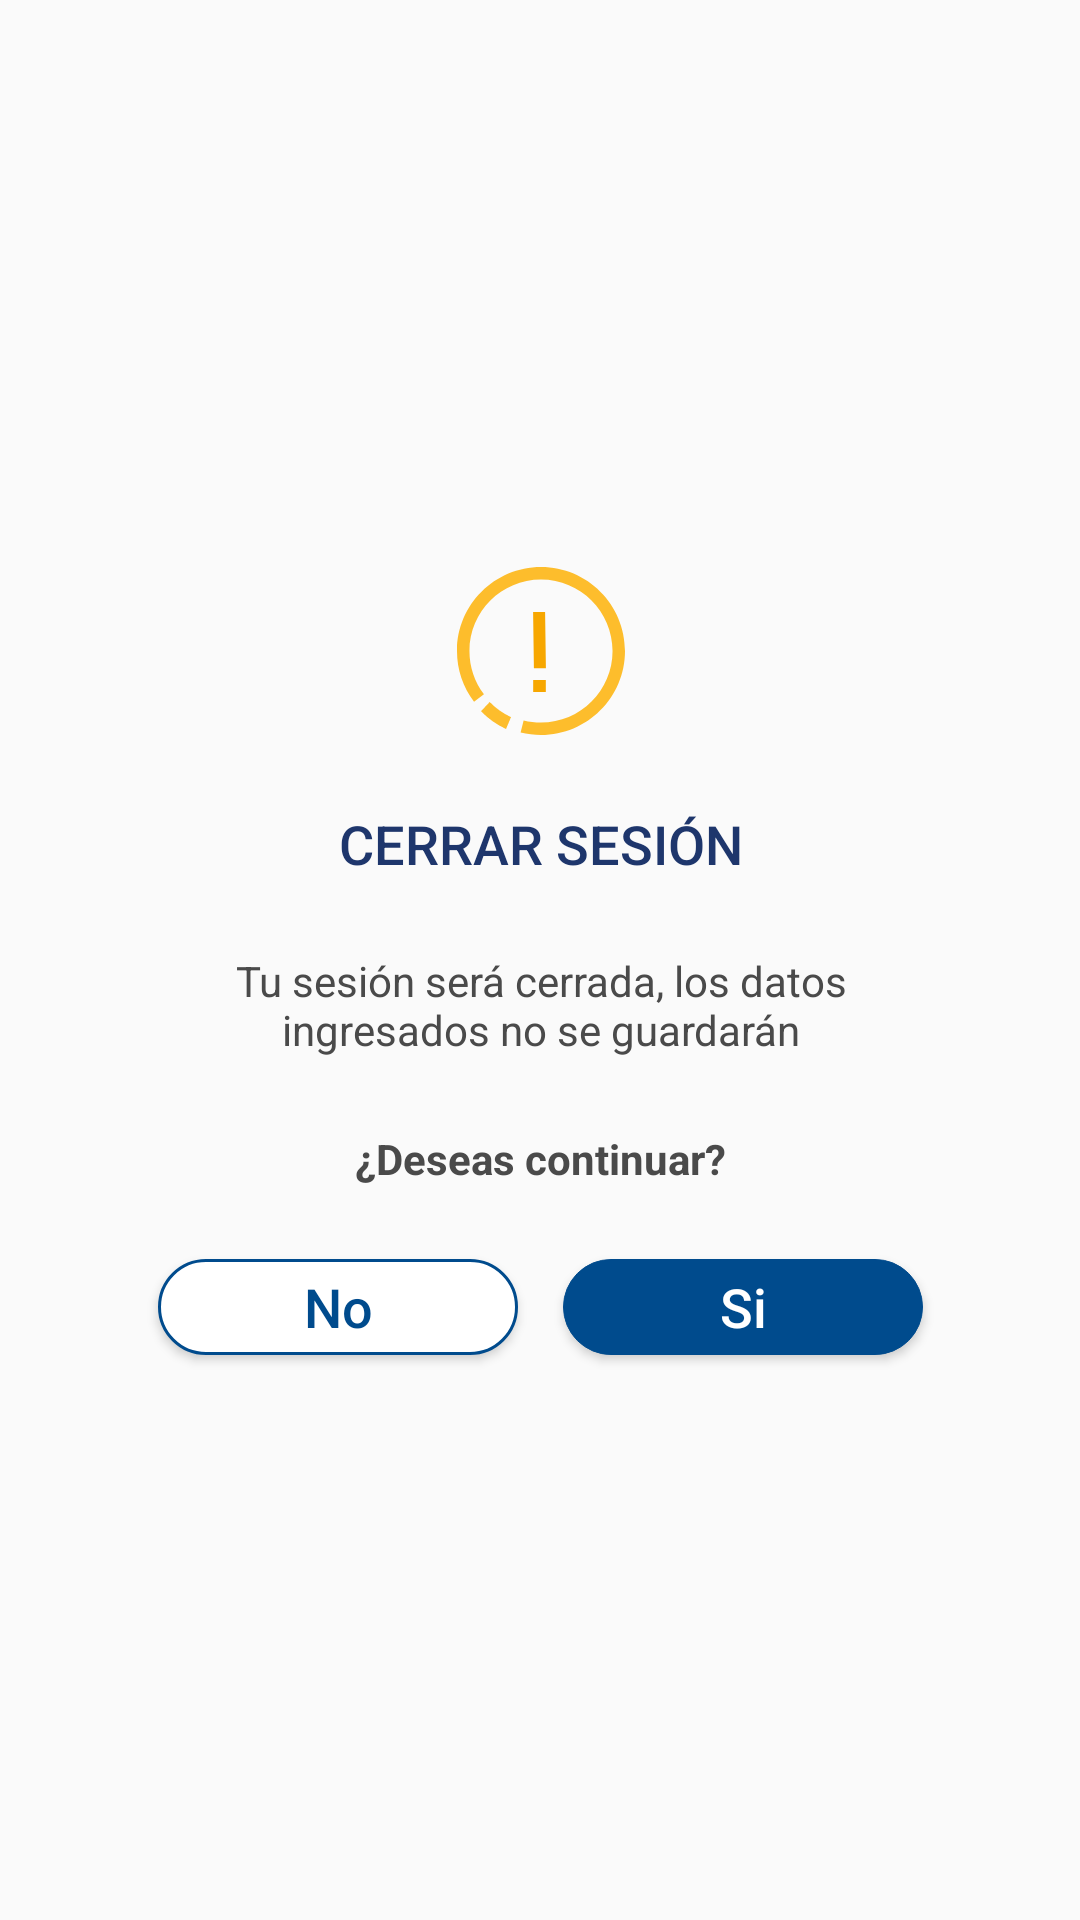

Screen size 1080 x 1920. Icon name, then its box in pixels as (x1, y1, x2, y2):
imagen de señalización cierre de sesión: (457, 567, 625, 735)
